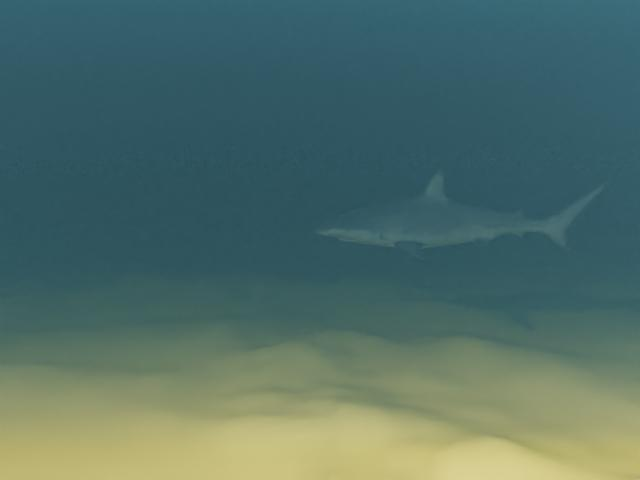Carribean Shark.001: (314, 168, 611, 265)
